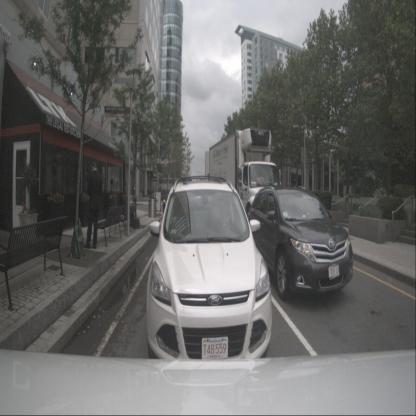human-pedestrian-adult: (83, 162, 102, 250)
vehicle-car: (146, 178, 272, 371), (246, 183, 354, 302)
vehicle-truck: (208, 128, 282, 236)
